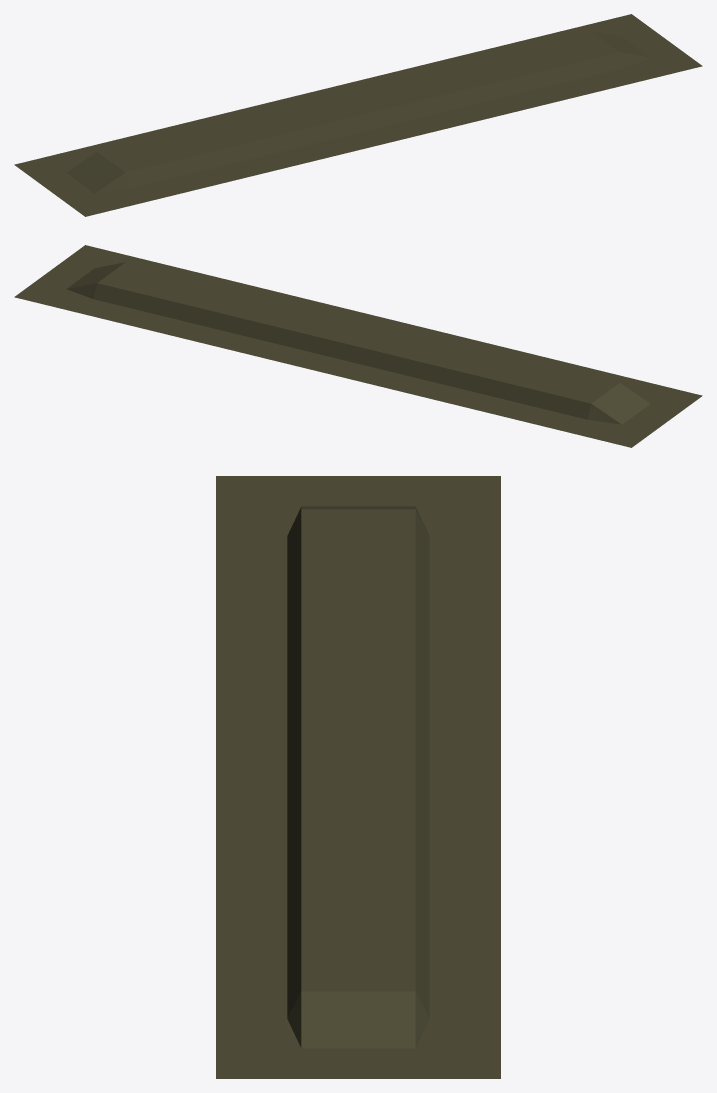
The model's file is farmground.fbx.
The picture shows the model from 3 angles, top to bottom: view 1: azimuth 30°, elevation 25°; view 2: azimuth 150°, elevation 25°; view 3: azimuth 270°, elevation 25°; orthographic projection. The views are drawn at different scales.
Visible parts, largest first — view 1: Plane.003; view 2: Plane.003; view 3: Plane.003.
Boxes of the visible parts, box(x1,y1,x2,y2) form: Plane.003: box(14, 14, 702, 216); Plane.003: box(14, 245, 702, 447); Plane.003: box(216, 476, 500, 1078).
Bounding box in the file's own units: 500 × 10.5 × 100.
